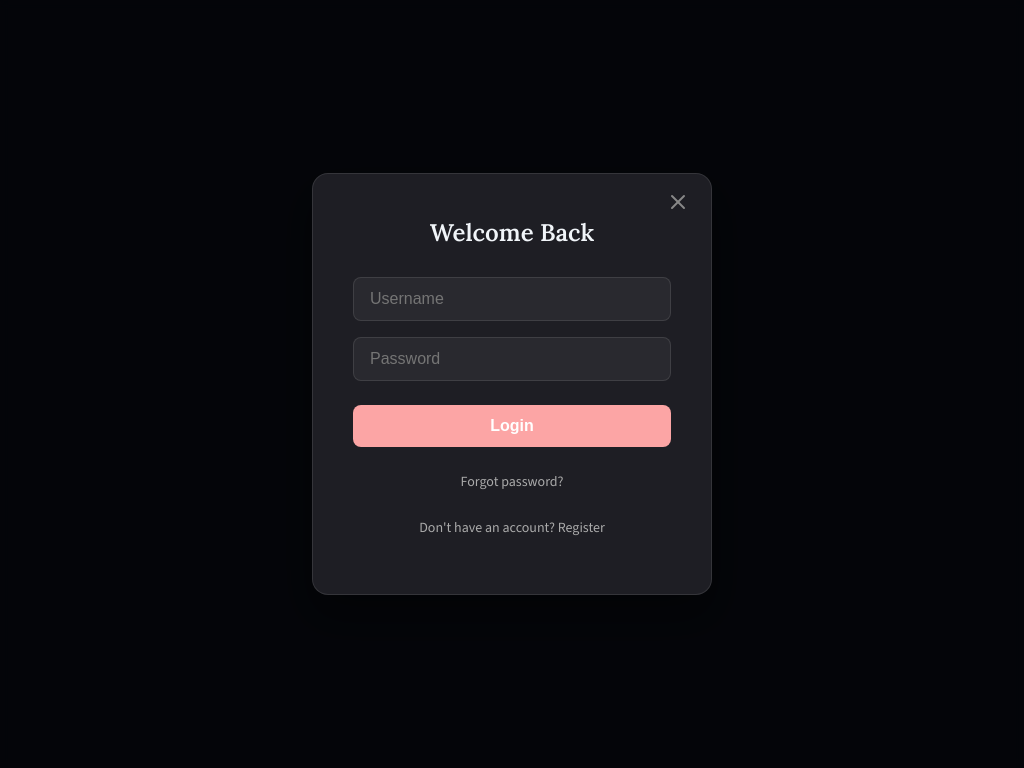
Test case: AuthModal integration › walks the forgot-password flow
The width and height of the screenshot is (1024, 768).
Click the text "Forgot password?": (512, 481) [460, 472, 564, 491]
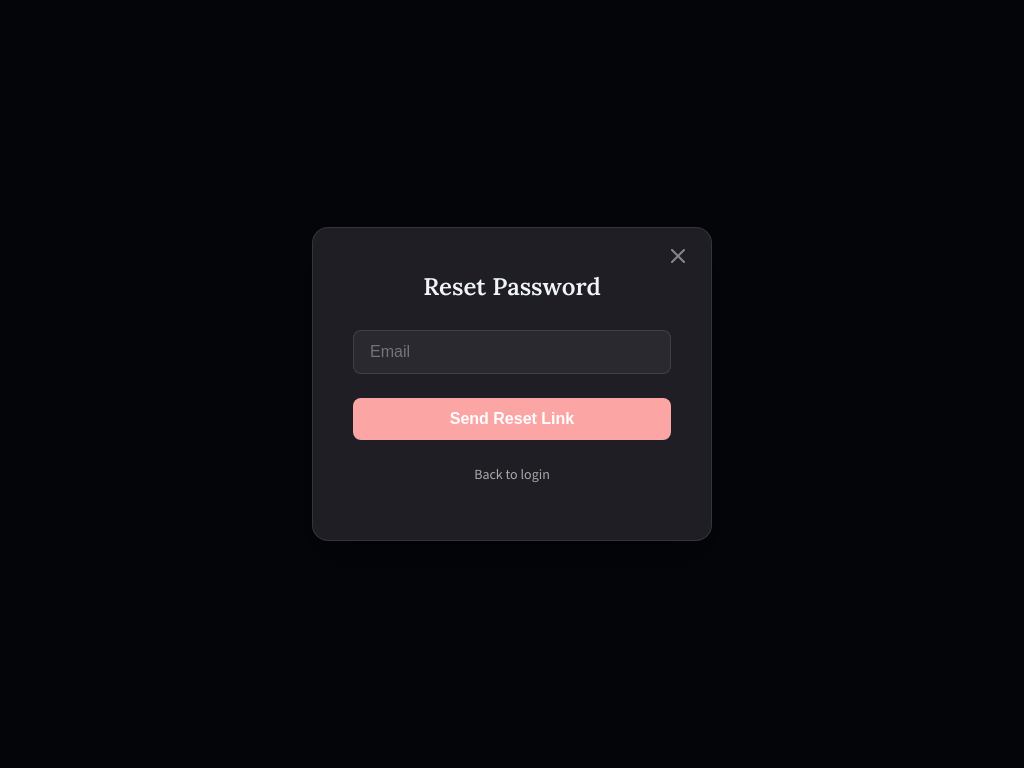
Result: the heading "Reset Password" is shown at [423, 271, 601, 302]
In the field with placeholder "Email": (512, 352) [353, 330, 671, 374], type "alice@test.com"
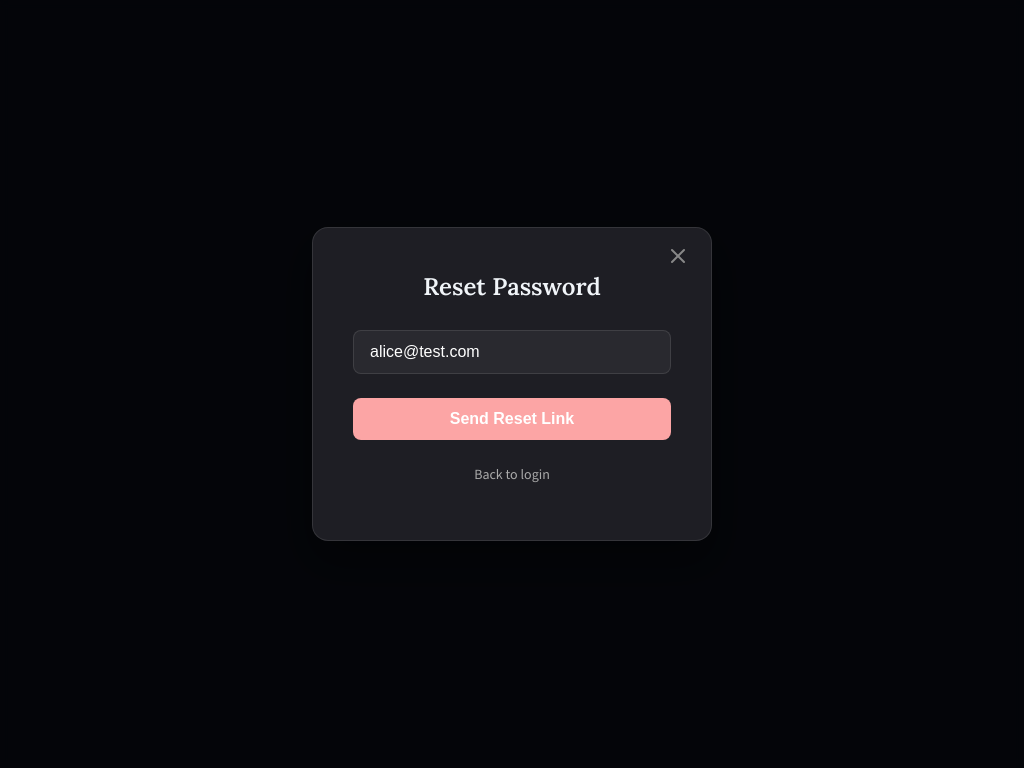
Click the button "Send Reset Link": (512, 419) [353, 398, 671, 440]
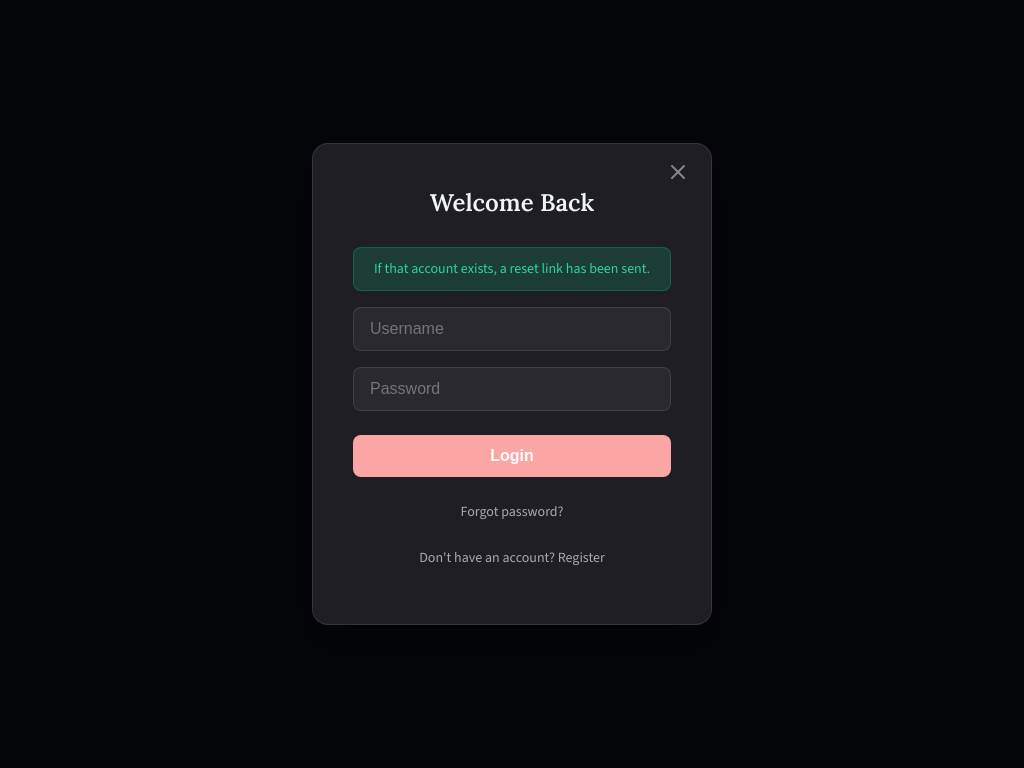
Result: the heading "Welcome Back" is shown at [430, 187, 594, 218]
Result: the text "If that account exists, a reset link has been sent." is shown at [353, 247, 671, 291]
